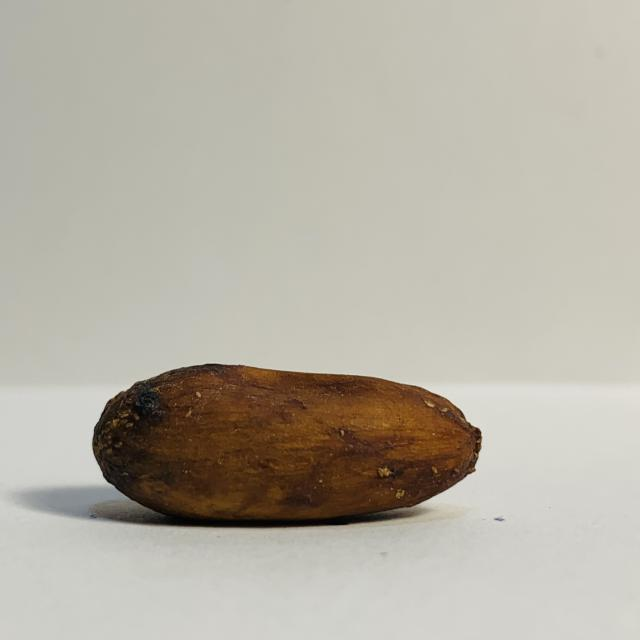Fine_cocoabeans: (0, 341, 573, 602)
